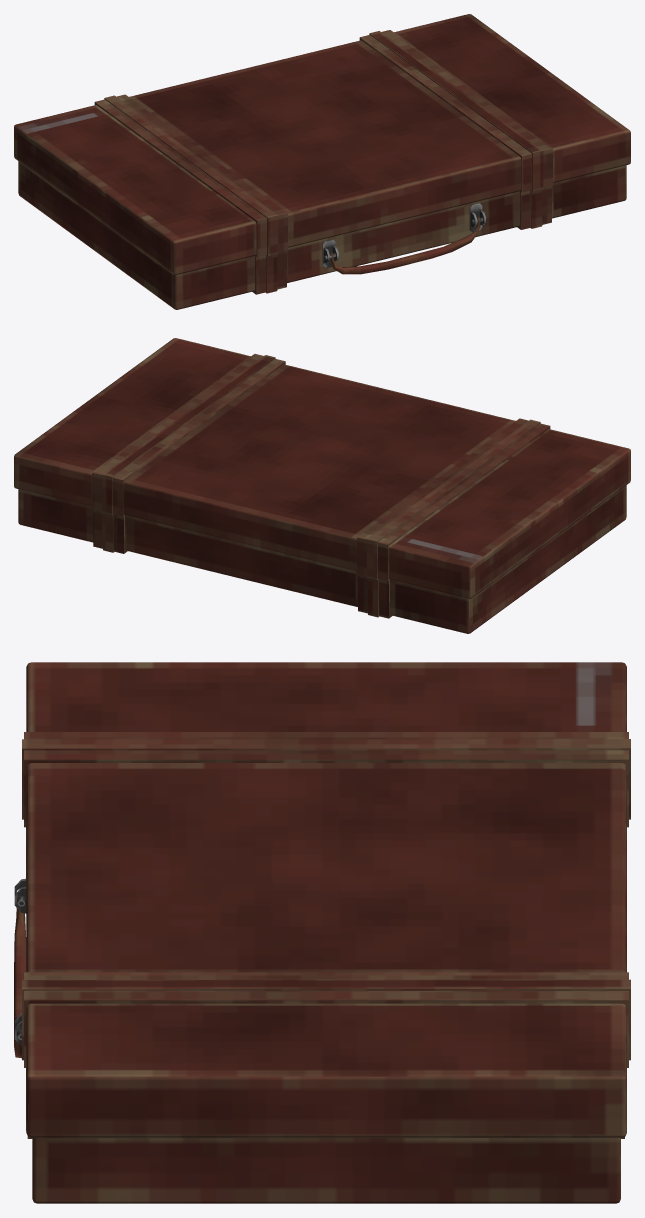
The model's file is SuitCase.fbx.
The picture shows the model from 3 angles, top to bottom: view 1: azimuth 30°, elevation 25°; view 2: azimuth 150°, elevation 25°; view 3: azimuth 270°, elevation 25°; orthographic projection. The views are drawn at different scales.
Visible parts, largest first — view 1: Cube.051, Cube.050, Cube.055, Cube.054, Vert; view 2: Cube.051, Cube.050, Cube.055, Cube.054; view 3: Cube.051, Cube.050, Cube.054, Cube.055, Vert.
Part boxes in pixels (x1,y1,x2,y2): Cube.051: (14,14,630,274); Cube.050: (18,161,626,309); Cube.055: (94,94,287,294); Cube.054: (359,30,552,229); Vert: (330,217,480,274); Cube.051: (14,338,630,598); Cube.050: (18,485,626,633); Cube.055: (357,418,550,618); Cube.054: (92,354,285,553); Cube.051: (26,662,626,1137); Cube.050: (32,1138,620,1203); Cube.054: (22,972,630,1138); Cube.055: (22,732,630,878); Vert: (14,898,26,1058).
Bounding box in the file's own units: 54.49 × 9.09 × 34.18.
3 materials, 3 textured.
